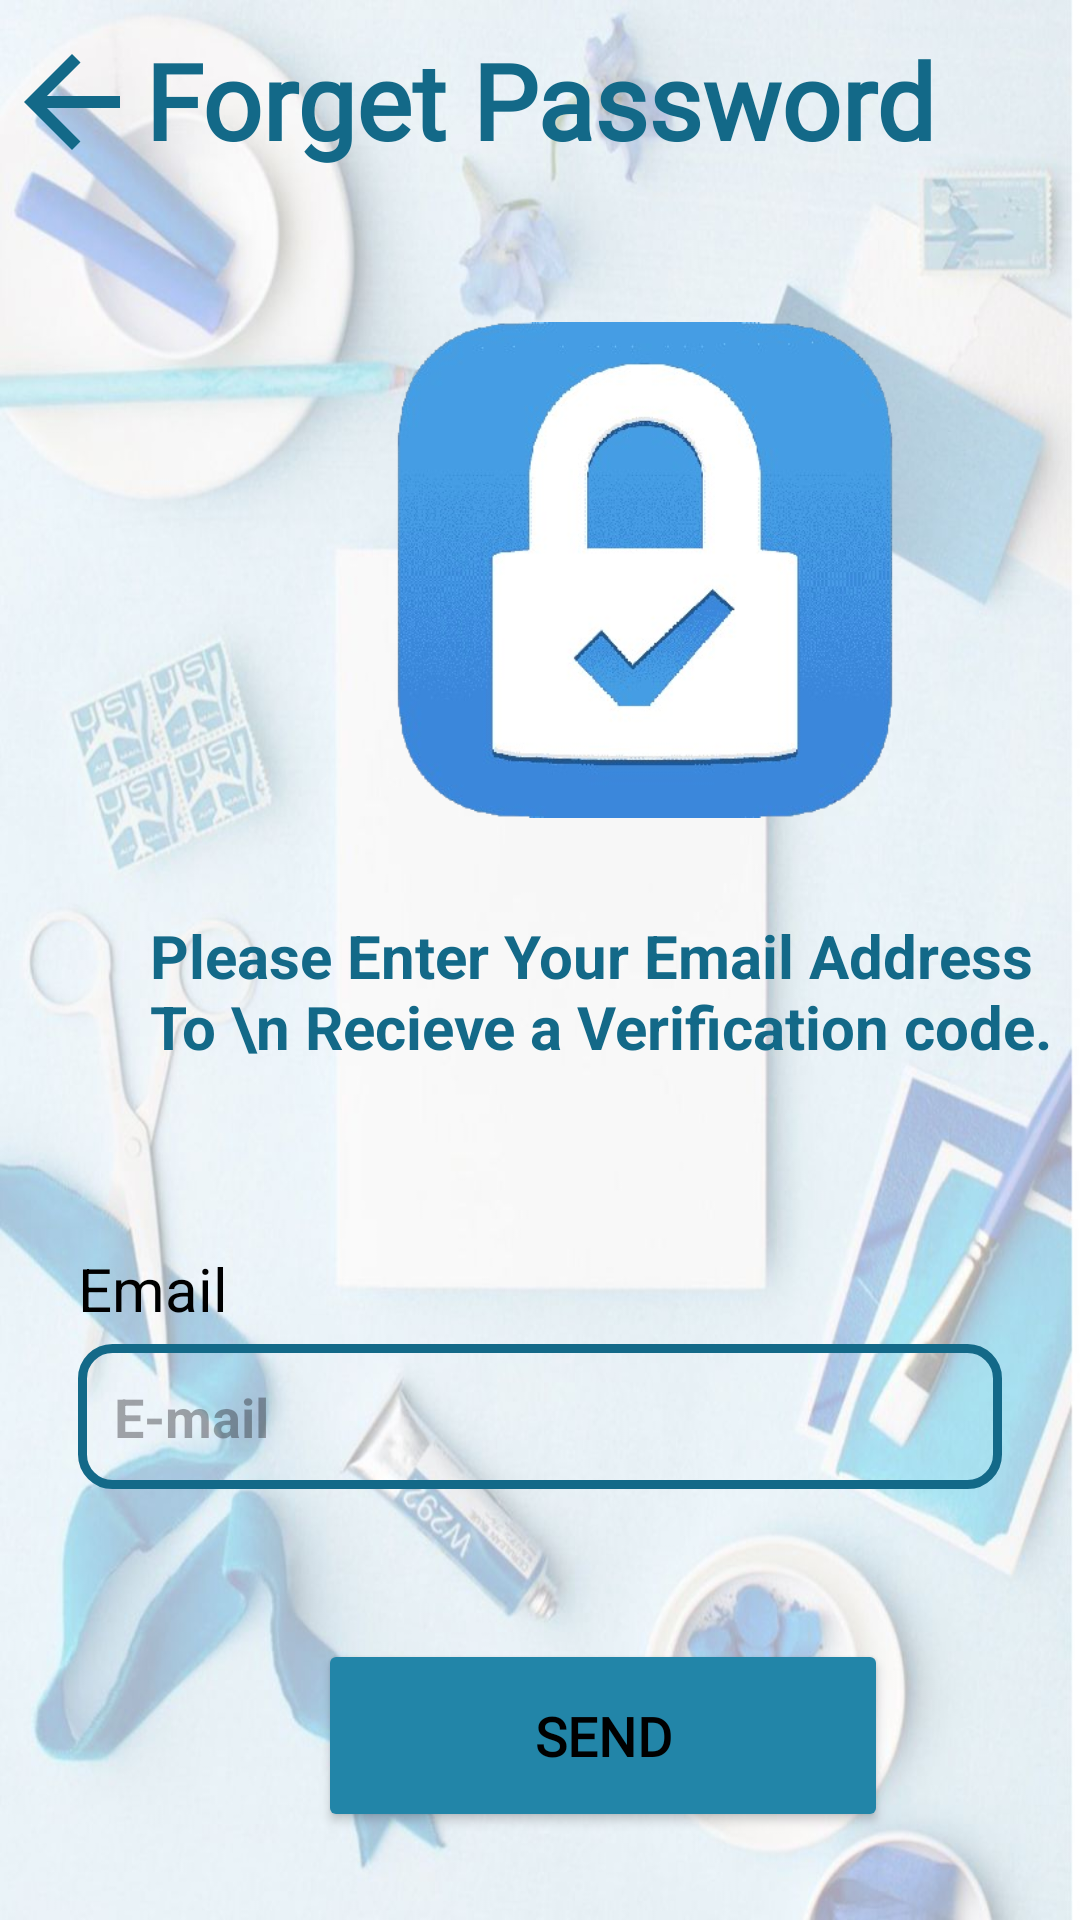

Where icons sit on this 1080 x 1920 app screen, as (x1, y1, x2, y2):
arrow back brown: (24, 54, 144, 174)
